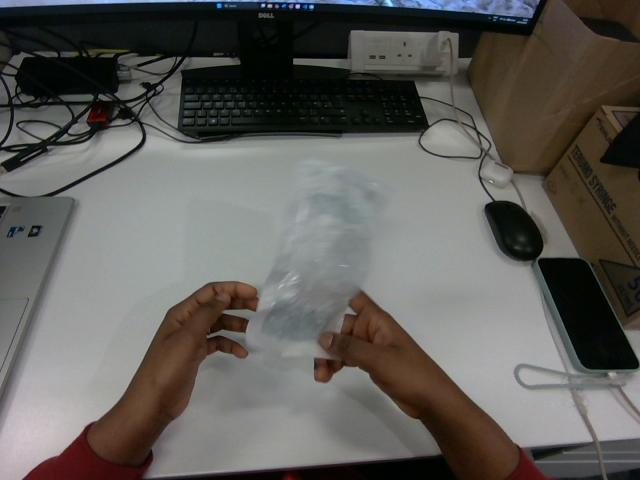gallipot: (247, 161, 385, 356)
